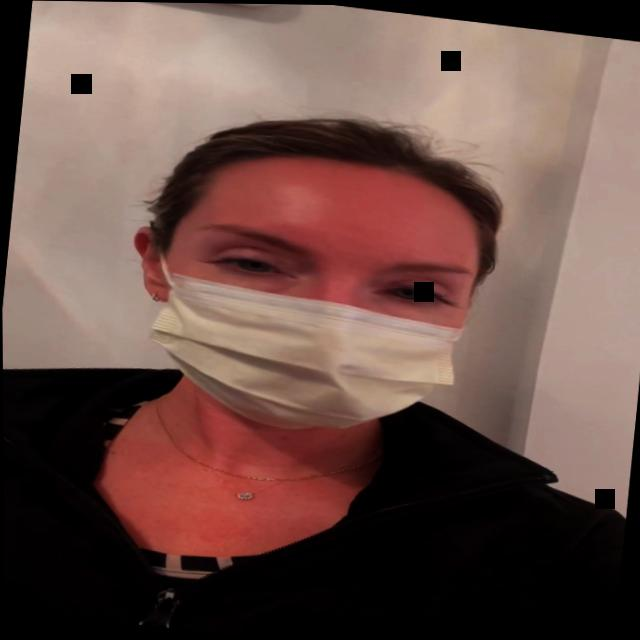Mask: (135, 139, 492, 449)
